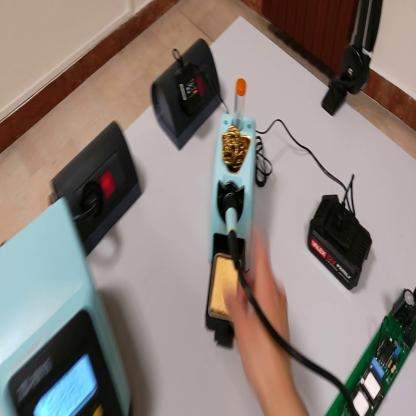electric screwdriver battery: (308, 192, 374, 293)
hand: (224, 225, 295, 396)
high voltage board: (327, 288, 416, 416)
socket: (52, 114, 143, 255), (153, 25, 224, 152)
welder base: (206, 77, 258, 351)
welder probe tip: (222, 194, 238, 273)
welder station: (1, 197, 137, 413)
